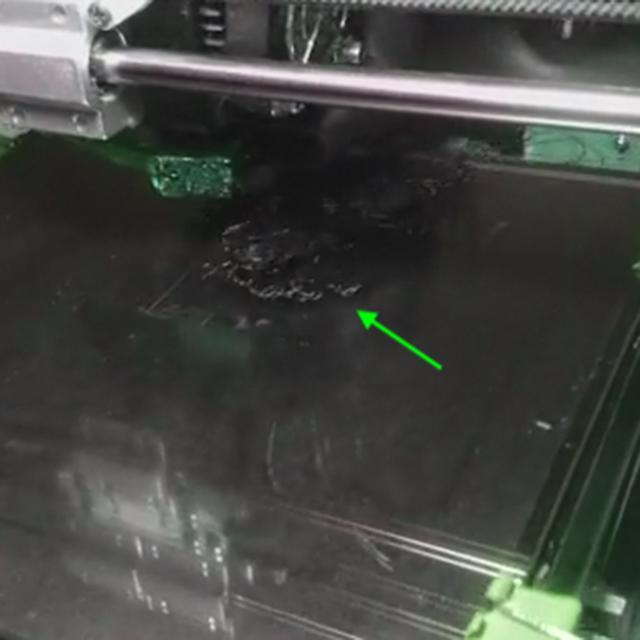Spaghetti: (202, 260, 366, 306)
